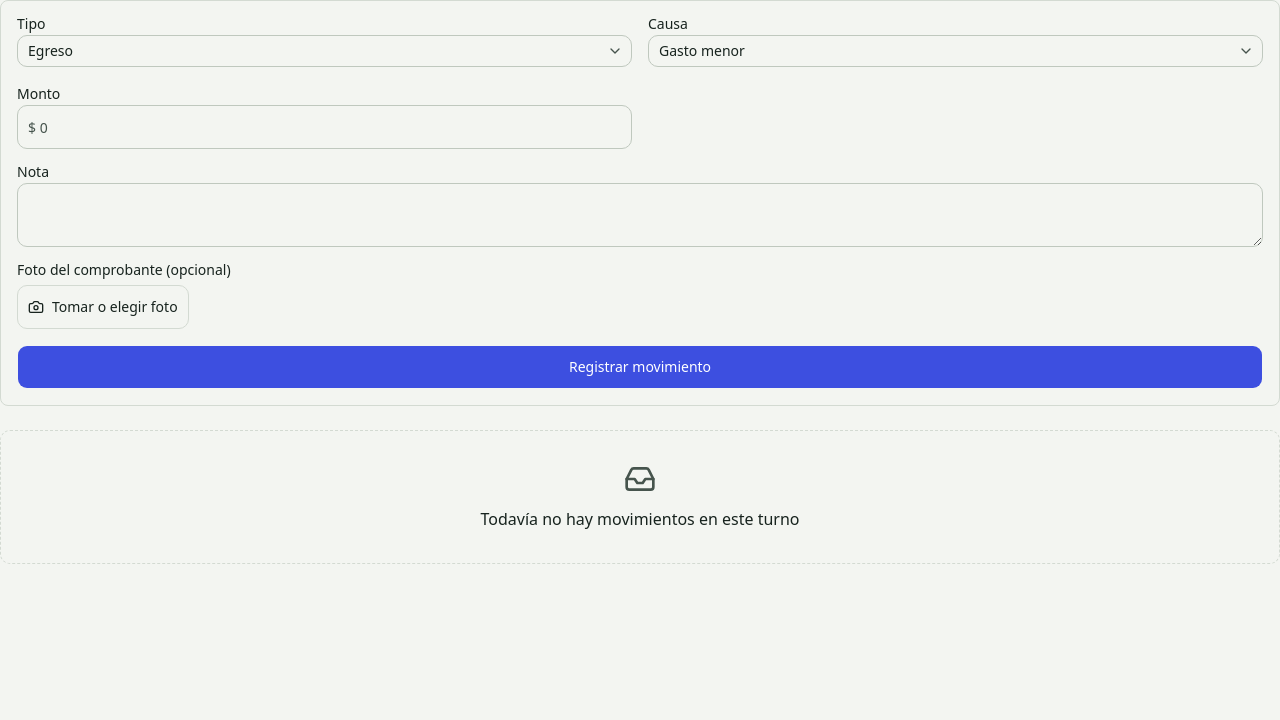
it: MovementsPanel — una causa de sólo-sistema no se ofrece a mano › el desplegable de causa no incluye 'delivery_settlement'
The image size is (1280, 720).
Click the dropdown named "Causa". click: (702, 50)
box: [648, 35, 1263, 67]
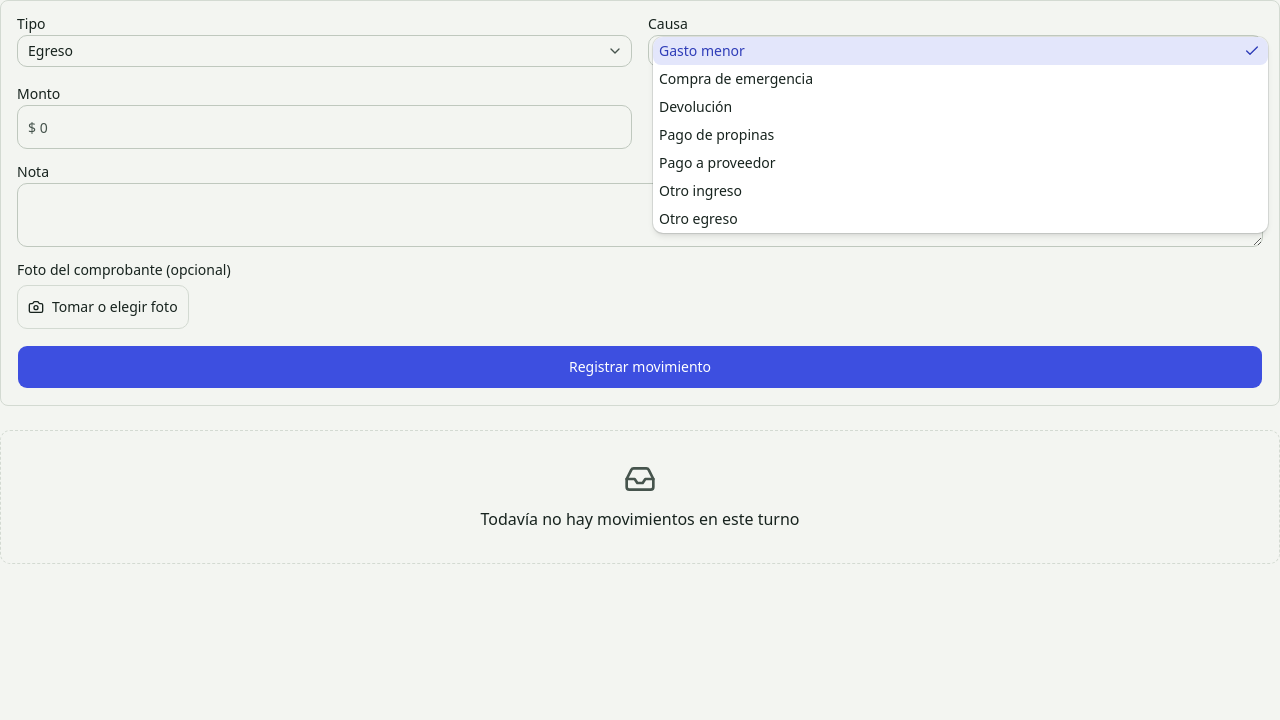
Result: the option "Gasto menor" is shown at [653, 37, 1268, 65]
